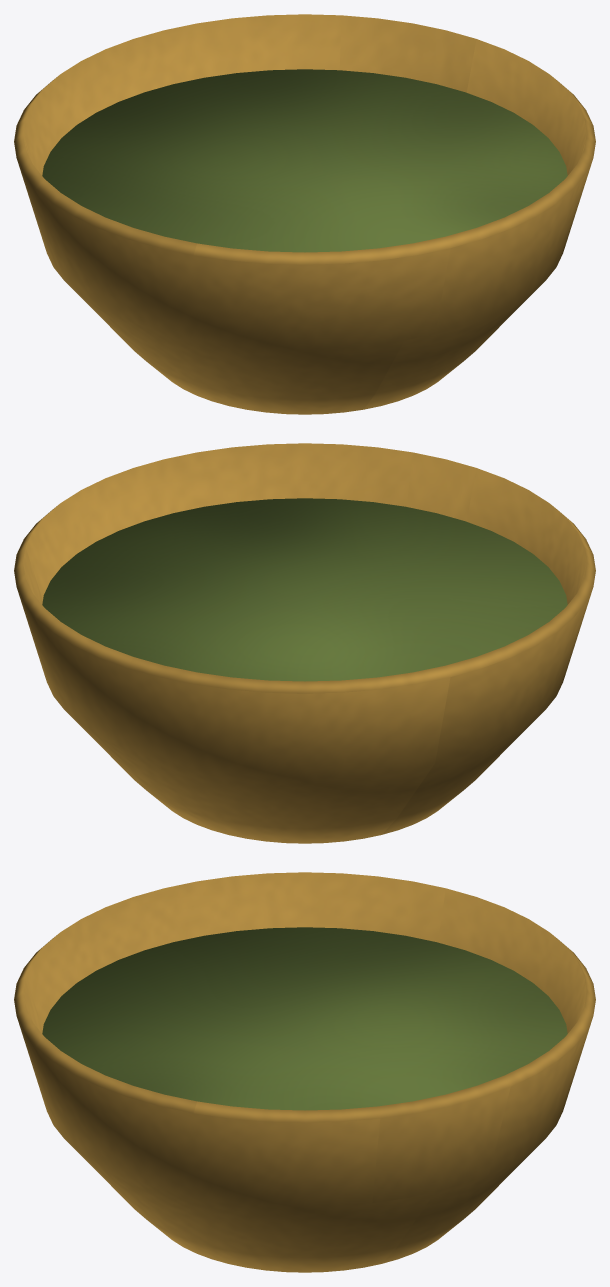
The model's file is z2_cuenco_artemisa.obj.
The picture shows the model from 3 angles, top to bottom: view 1: azimuth 30°, elevation 25°; view 2: azimuth 150°, elevation 25°; view 3: azimuth 270°, elevation 25°; orthographic projection.
Parts seen in each view (by area): view 1: z2_cuenco_artemisa; view 2: z2_cuenco_artemisa; view 3: z2_cuenco_artemisa.
Part boxes in pixels (<box>): z2_cuenco_artemisa: <box>14,14,595,414</box>; z2_cuenco_artemisa: <box>14,443,595,843</box>; z2_cuenco_artemisa: <box>14,872,595,1272</box>.
Bounding box in the file's own units: 0.19 × 0.078 × 0.19.
2 materials, 2 textured.
